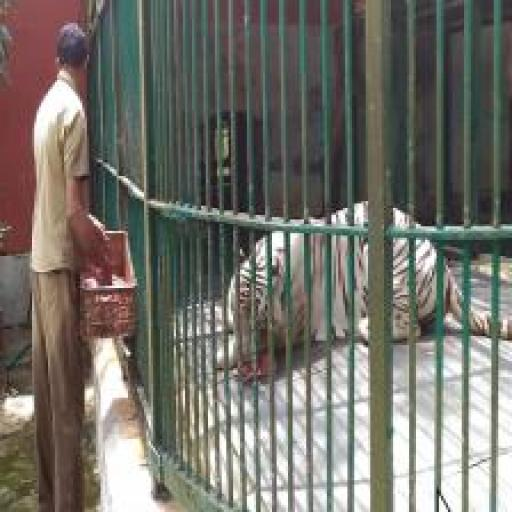Tiger: (212, 199, 512, 374)
